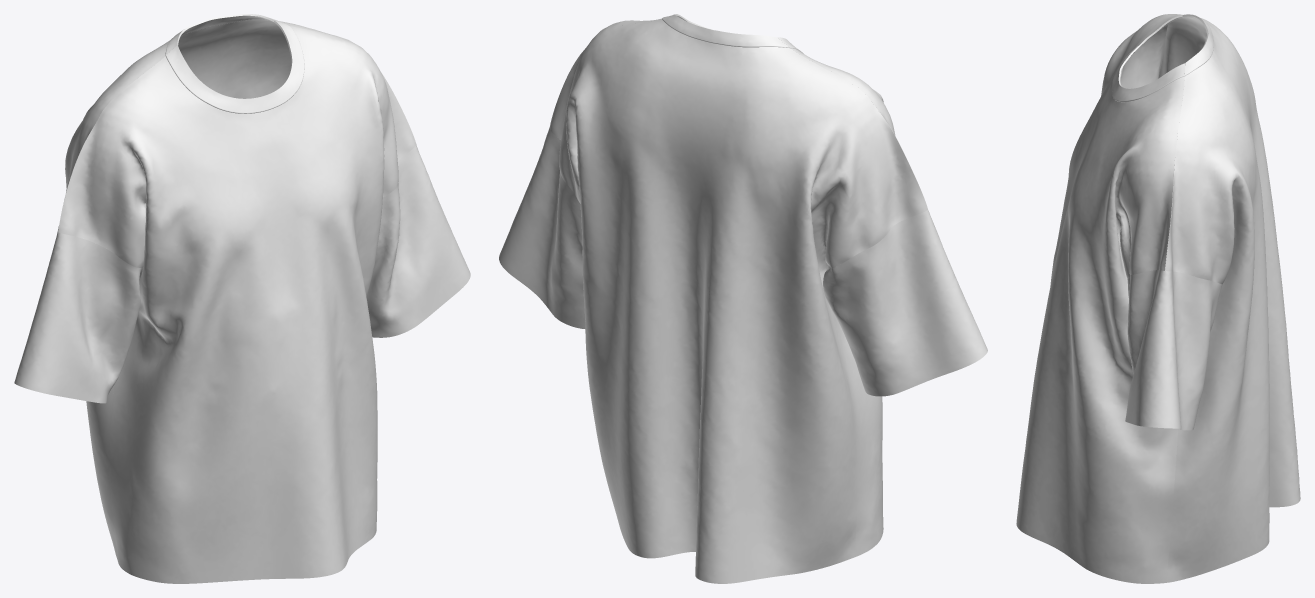
Rendered from relaxed-crewneck-drop-shoulder-elbow-sleeve-t-shirt-3d-model-b2e6febd66e6.glb.
3 views of the same model, side by side, from view 1: azimuth 30°, elevation 25°; view 2: azimuth 150°, elevation 25°; view 3: azimuth 270°, elevation 25° (orthographic). The views are drawn at different scales.
Visible parts, largest first — view 1: 1e5a43e7-e4fc-464d-8df0-88bfa9f73502; view 2: 1e5a43e7-e4fc-464d-8df0-88bfa9f73502; view 3: 1e5a43e7-e4fc-464d-8df0-88bfa9f73502.
Part boxes in pixels (bbox=[...]): 1e5a43e7-e4fc-464d-8df0-88bfa9f73502: bbox=[14, 14, 470, 583]; 1e5a43e7-e4fc-464d-8df0-88bfa9f73502: bbox=[499, 14, 987, 583]; 1e5a43e7-e4fc-464d-8df0-88bfa9f73502: bbox=[1016, 14, 1300, 583].
Bounding box in the file's own units: 732 × 767 × 399.
Materials: 1 (1 with a texture image).
